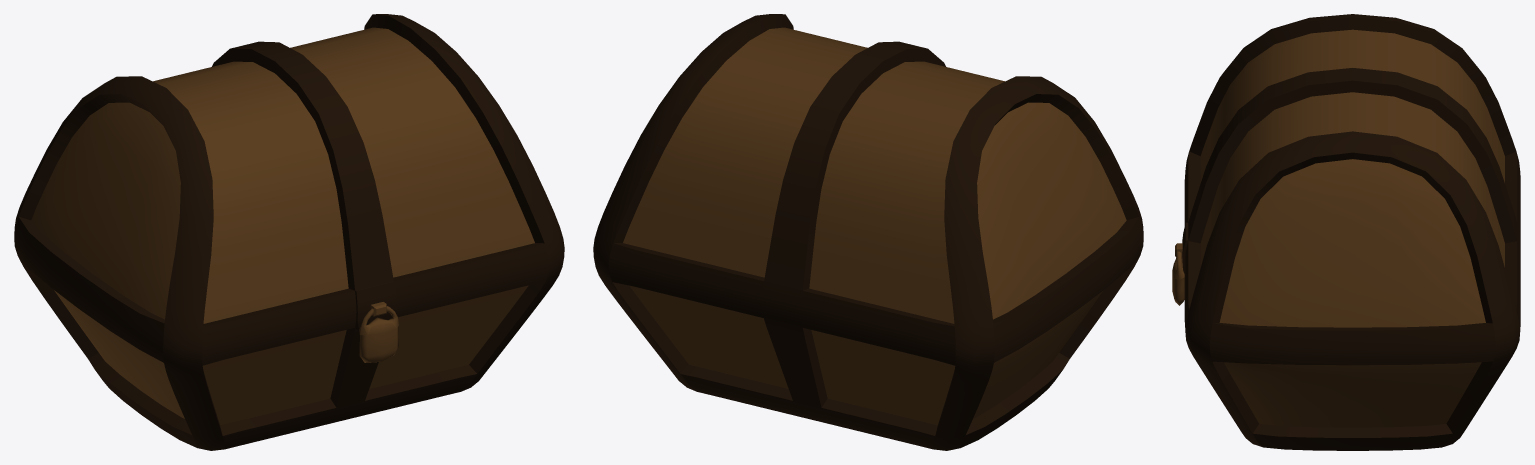
The model's file is mod_tchest_v1.fbx.
3 renders of one model, left to right at view 1: azimuth 30°, elevation 25°; view 2: azimuth 150°, elevation 25°; view 3: azimuth 270°, elevation 25°, orthographic. The views are drawn at different scales.
Parts seen in each view (by area): view 1: treasuechest_v2:polySurface5; view 2: treasuechest_v2:polySurface5; view 3: treasuechest_v2:polySurface5.
Boxes of the visible parts, box(x1,y1,x2,y2) form: treasuechest_v2:polySurface5: box(14, 14, 564, 450); treasuechest_v2:polySurface5: box(593, 14, 1143, 450); treasuechest_v2:polySurface5: box(1172, 14, 1520, 450).
Size of the model in its own units: 1.85 by 1.35 by 1.38.
